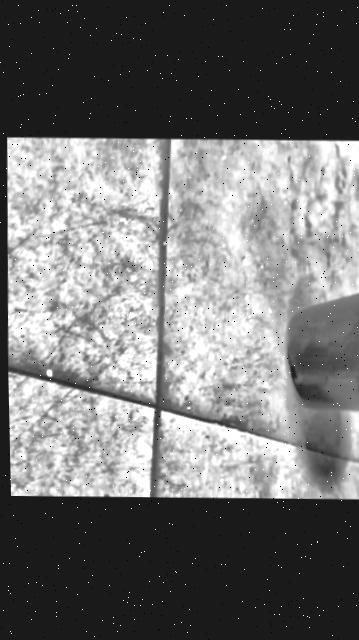pot: (283, 280, 359, 421)
